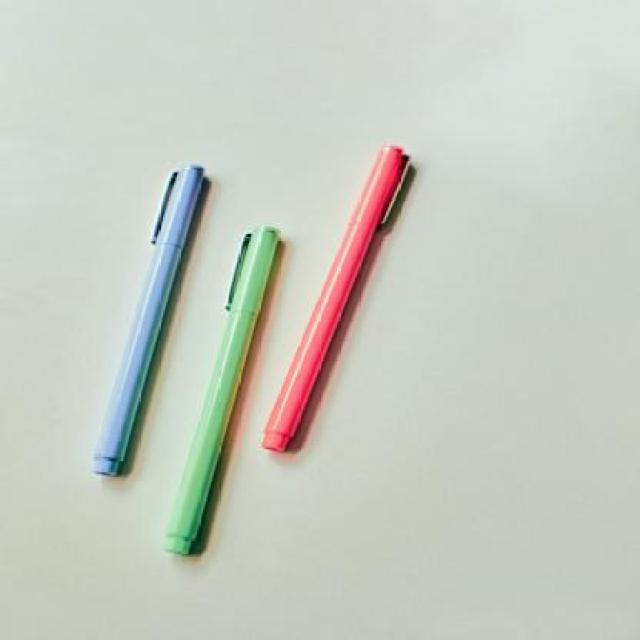pen: (262, 154, 417, 443), (89, 157, 214, 484), (166, 227, 282, 549)
